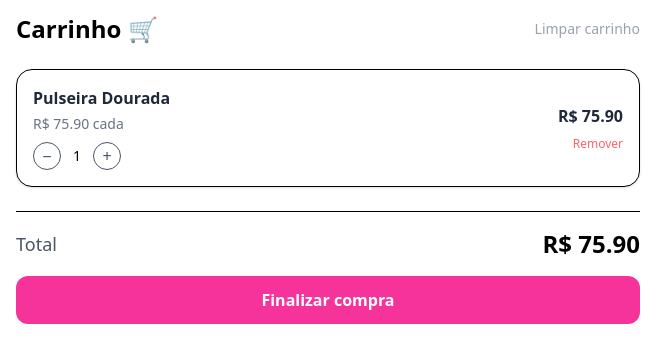
Scenario: Fluxo de pedido — carrinho › exibe 'Processando...' durante a requisição
What coordinates should you click on to do the following:
click the button "Finalizar compra"
I would click on:
 (328, 300)
Its box is [16, 276, 640, 324].
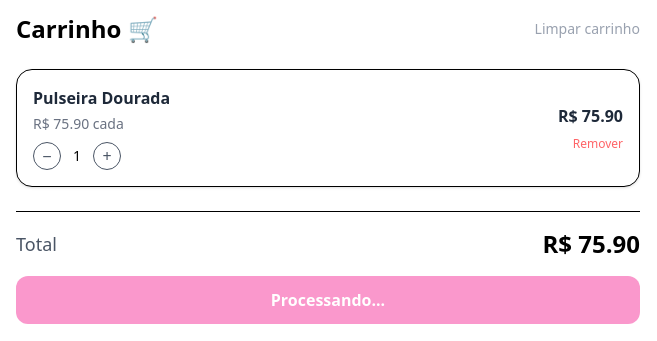
Result: the button "Processando..." is shown at [16, 276, 640, 324]
